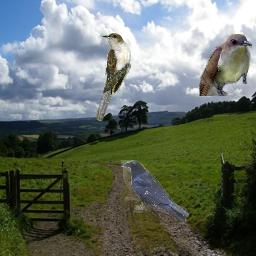Crow: (121, 160, 189, 224)
Cuckoo: (199, 34, 252, 96), (96, 33, 131, 121)
